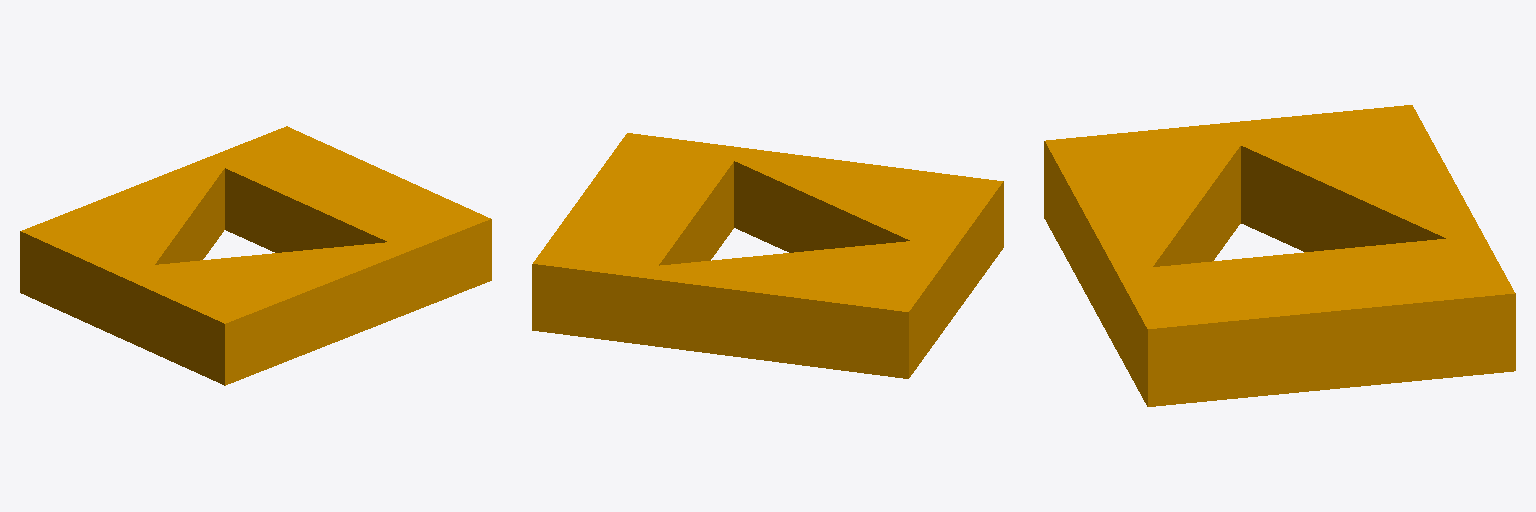
The robot description file, URDF, robot "industreal_tray_insert_round_peg_70mm":
<?xml version="1.0"?>
<robot name="industreal_tray_insert_round_peg_70mm">
    <link name="industreal_tray_insert_round_peg_70mm">
        <visual>
            <geometry>
                <mesh filename="../mesh/industreal_pegs/1_5inTriangleBlockAdjustedZ_Right.obj"/>
            </geometry>
        </visual>
        <collision>
            <geometry>
                <mesh filename="../mesh/industreal_pegs/1_5inTriangleBlockAdjustedZ_Right.obj"/>
            </geometry>
            <sdf resolution="256"/>
        </collision>
    </link>
</robot>

--- Facts derived from the render (not from the file) ---
Views: 3 orthographic renders of the robot side by side, from view 1: azimuth 30°, elevation 25°; view 2: azimuth 150°, elevation 25°; view 3: azimuth 270°, elevation 25°.
Model industreal_tray_insert_round_peg_70mm with 1 links and 0 joints (none), rooted at industreal_tray_insert_round_peg_70mm, posed every joint at zero.
Links seen in each view (by area): view 1: industreal_tray_insert_round_peg_70mm; view 2: industreal_tray_insert_round_peg_70mm; view 3: industreal_tray_insert_round_peg_70mm.
Boxes of the visible links, left/top/right/bottom form: industreal_tray_insert_round_peg_70mm: left=20, top=126, right=491, bottom=385; industreal_tray_insert_round_peg_70mm: left=532, top=133, right=1003, bottom=378; industreal_tray_insert_round_peg_70mm: left=1044, top=105, right=1515, bottom=406.
Size in the robot's own frame: 0.1178 by 0.1044 by 0.0191 metres.
Meshes: 1 distinct files referenced, 1 mesh visuals loaded (1 OBJ).